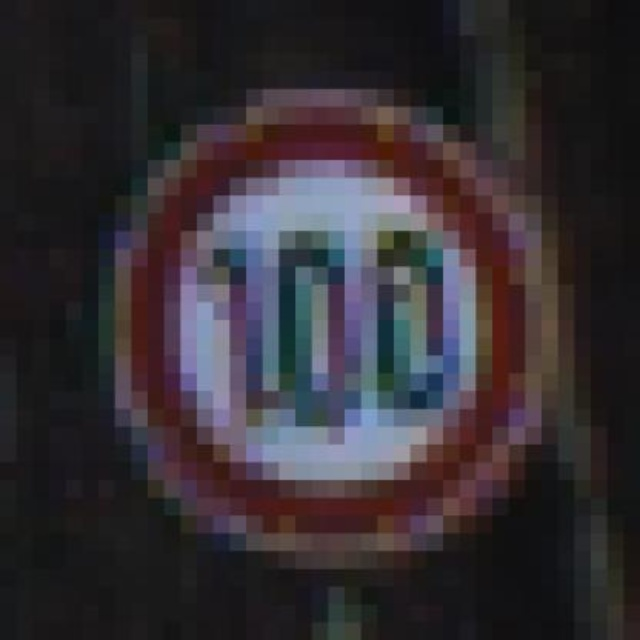Tốc độ tối đa cho phép 100km/h: (130, 102, 532, 548)
